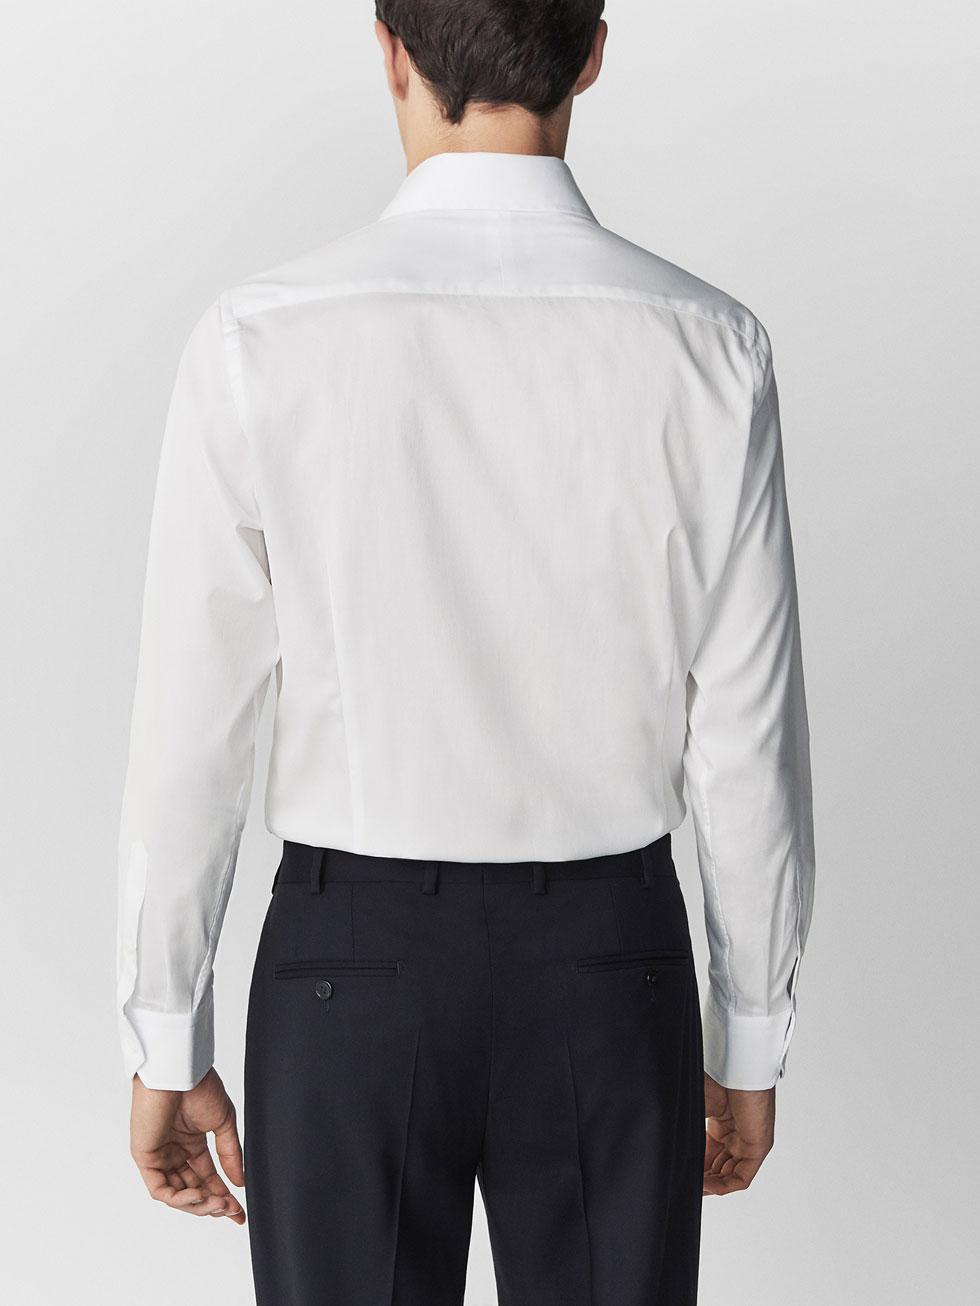teeshirt: (83, 149, 829, 1101)
